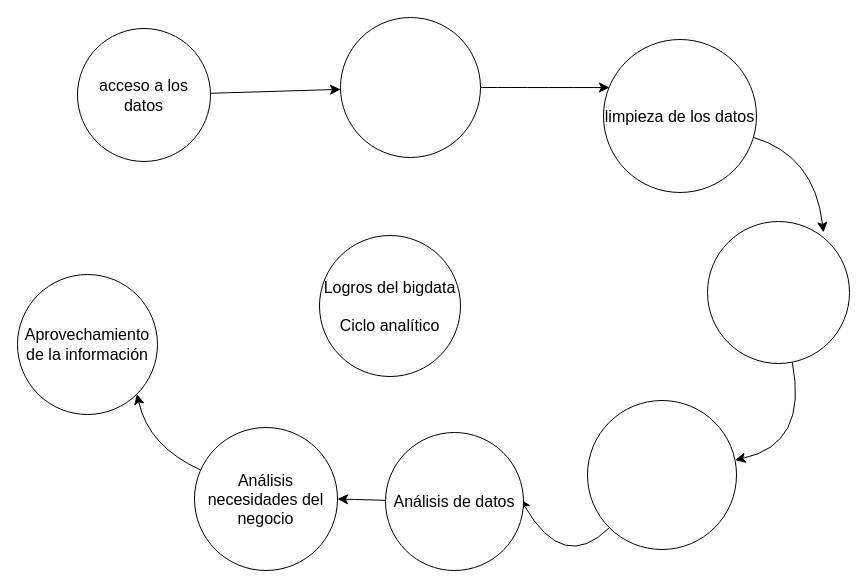
Image size: 867x588. Some labels were removed from this diagram. The box of each missing label's shape, as (x1, y1, x2, y2) in pixels:
control de los datos: (706, 220, 850, 364)
integratión de los datos: (340, 16, 480, 158)
protección de datos: (586, 400, 736, 550)
